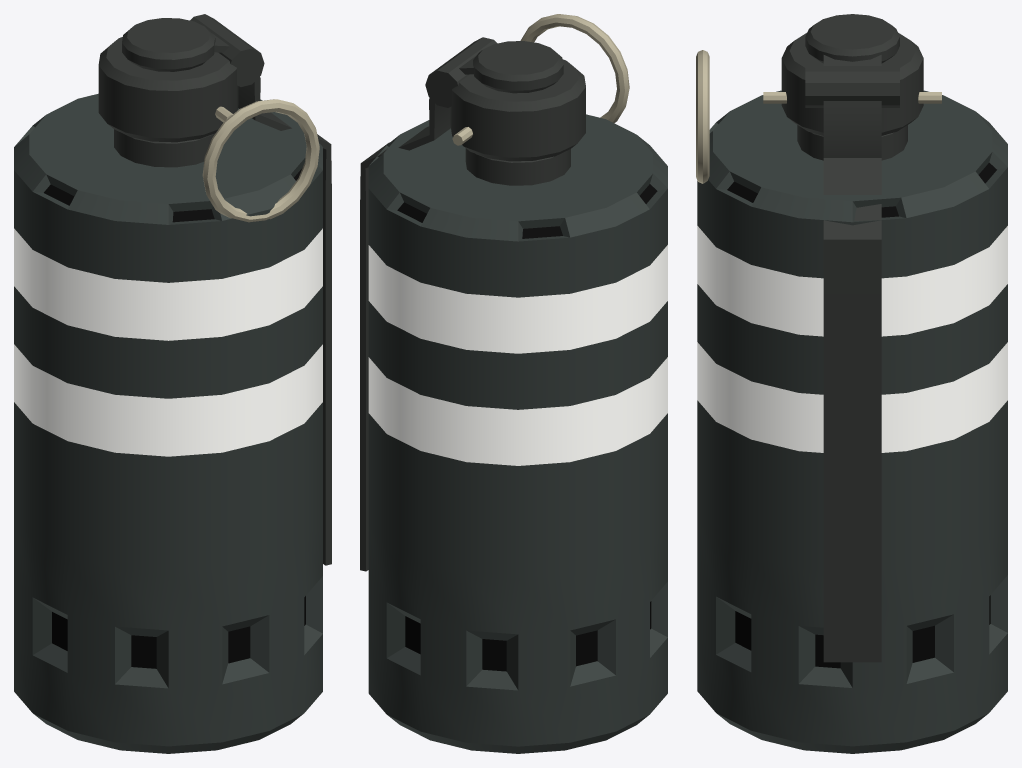
The model's file is smoke.glb.
The picture shows the model from 3 angles, left to right: view 1: azimuth 30°, elevation 25°; view 2: azimuth 150°, elevation 25°; view 3: azimuth 270°, elevation 25°; orthographic projection. The views are drawn at different scales.
Parts seen in each view (by area): view 1: Smoke; view 2: Smoke; view 3: Smoke.
Part boxes in pixels (left/top/right/bottom): Smoke: left=14, top=14, right=331, bottom=753; Smoke: left=360, top=14, right=667, bottom=753; Smoke: left=696, top=14, right=1007, bottom=753.
Size of the model in its own units: 0.0629 by 0.139 by 0.0593.
